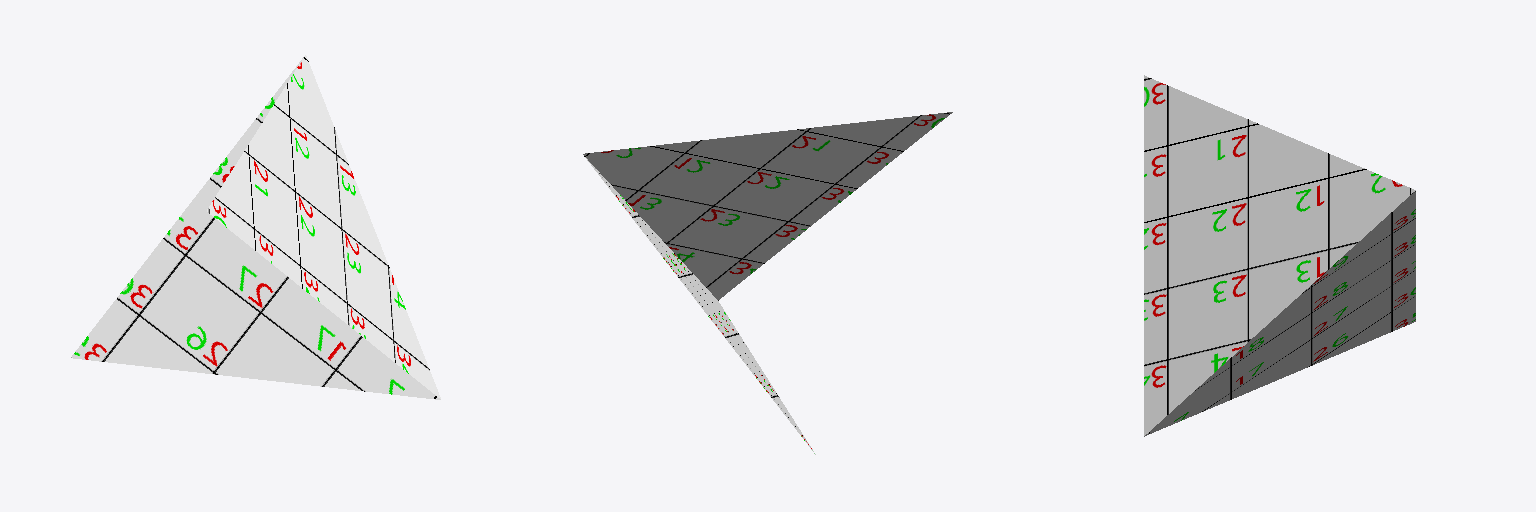
The picture shows the model from 3 angles: view 1: azimuth 30°, elevation 25°; view 2: azimuth 150°, elevation 25°; view 3: azimuth 270°, elevation 25°; orthographic projection.
Parts seen in each view (by area): view 1: tetrahedron; view 2: tetrahedron; view 3: tetrahedron.
Part boxes in pixels (x1,y1,x2,y2): tetrahedron: (71,55,440,399); tetrahedron: (583,112,952,454); tetrahedron: (1144,75,1415,436).
Size of the model in its own units: 2 by 2 by 2.
Materials: 1 (1 with a texture image).